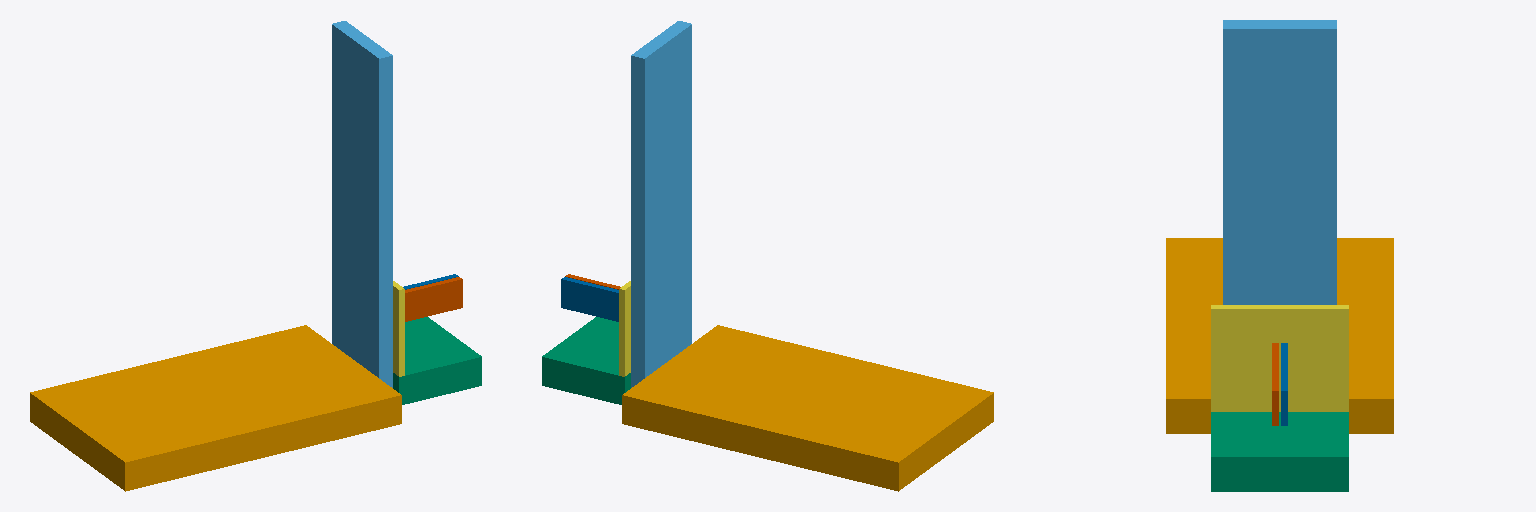
robot.urdf — lib_bot:
<?xml version="1.0" ?>
<robot name="lib_bot">

    <link name="base_link">
        <visual>
            <origin rpy="0 0 0" xyz="0 0 0" />
            <geometry>
                <box size="0.5 0.3 0.05" />
            </geometry>
        </visual>
        <collision>
            <origin xyz="0 0 0" rpy="0 0 0" />
            <geometry>
                <box size="0.5 0.3 0.05" />
            </geometry>
        </collision>
        
<inertial>
            <origin xyz="0 0 0" rpy="0 0 0" />
            <mass value="18" />
            <inertia ixx="0.13874999999999998" ixy="0.0" ixz="0.0" iyy="0.37875000000000003" iyz="0.0" izz="0.51" />
        </inertial>

    </link>
    <link name="tower_link">
        <visual>
            <origin rpy="0 0 0" xyz="0 0 0.275" />
            <geometry>
                <box size="0.025 0.15 0.60" />
            </geometry>
        </visual>
        <collision>
            <origin xyz="0 0 0.275" rpy="0 0 0" />
            <geometry>
                <box size="0.025 0.15 0.60" />
            </geometry>
        </collision>
        
<inertial>
            <origin xyz="0 0 0.275" rpy="0 0 0" />
            <mass value="10" />
            <inertia ixx="0.31875000000000003" ixy="0.0" ixz="0.0" iyy="0.300520833333" iyz="0.0" izz="0.0192708333333" />
        </inertial>

    </link>
    <link name="elevtor_link">
        <visual>
            <origin rpy="0 0 0" xyz="0 0 0" />
            <geometry>
                <box size="0.15 0.18 0.05" />
            </geometry>
        </visual>
        <collision>
            <origin xyz="0 0 0" rpy="0 0 0" />
            <geometry>
                <box size="0.15 0.18 0.05" />
            </geometry>
        </collision>
        
<inertial>
            <origin xyz="0 0 0" rpy="0 0 0" />
            <mass value="0.5" />
            <inertia ixx="0.0014541666666666665" ixy="0.0" ixz="0.0" iyy="0.0010416666666666667" iyz="0.0" izz="0.0022874999999999996" />
        </inertial>

    </link>
    <link name="push_link">
        <visual>
            <origin rpy="0 0 0" xyz="0 0 0" />
            <geometry>
                <box size="0.01 0.18 0.15" />
            </geometry>
        </visual>
        <collision>
            <origin xyz="0 0 0" rpy="0 0 0" />
            <geometry>
                <box size="0.01 0.18 0.15" />
            </geometry>
        </collision>
        
<inertial>
            <origin xyz="0 0 0" rpy="0 0 0" />
            <mass value="0.05" />
            <inertia ixx="0.0013724999999999998" ixy="0.0" ixz="0.0" iyy="0.0006025" iyz="0.0" izz="0.0008499999999999998" />
        </inertial>

    </link>
    <link name="jaw_1_link">
        <visual>
            <origin rpy="0 0 0" xyz="0 0 0" />
            <geometry>
                <box size="0.15 0.01 0.05" />
            </geometry>
        </visual>
        <collision>
            <origin xyz="0 0 0" rpy="0 0 0" />
            <geometry>
                <box size="0.15 0.01 0.05" />
            </geometry>
        </collision>
        
<inertial>
            <origin xyz="0 0 0" rpy="0 0 0" />
            <mass value="0.05" />
            <inertia ixx="0.0013724999999999998" ixy="0.0" ixz="0.0" iyy="0.0006025" iyz="0.0" izz="0.0008499999999999998" />
        </inertial>

    </link>
    <link name="jaw_2_link">
        <visual>
            <origin rpy="0 0 0" xyz="0 0 0" />
            <geometry>
                <box size="0.15 0.01 0.05" />
            </geometry>
        </visual>
        <collision>
            <origin xyz="0 0 0" rpy="0 0 0" />
            <geometry>
                <box size="0.15 0.01 0.05" />
            </geometry>
        </collision>
        
<inertial>
            <origin xyz="0 0 0" rpy="0 0 0" />
            <mass value="0.05" />
            <inertia ixx="0.0013724999999999998" ixy="0.0" ixz="0.0" iyy="0.0006025" iyz="0.0" izz="0.0008499999999999998" />
        </inertial>

    </link>
    
  
  
    <!-- JOINTS -->
    <joint name="base_link_tower_link_joint" type="fixed">
        <origin xyz="0.265 0 0" rpy="0 0 0" />
        <parent link="base_link" />
        <child link="tower_link" />
    </joint>
    <joint name="tower_link_elevtor_link_joint" type="prismatic">
        <axis xyz="0 0 1" />
        <parent link="tower_link" />
        <child link="elevtor_link" />
        <limit effort="1000.0" lower="0" upper="0.55" velocity="0.2" />
        <origin rpy="0 0 0" xyz="0.090 0 0" />
    </joint>
    <joint name="elevtor_link_push_link_joint" type="prismatic">
        <axis xyz="1 0 0" />
        <parent link="elevtor_link" />
        <child link="push_link" />
        <limit effort="1000.0" lower="0" upper="0.14" velocity="0.2" />
        <origin rpy="0 0 0" xyz="-0.070 0 0.1" />
    </joint>
    <joint name="push_link_jaw_1_joint" type="prismatic">
        <axis xyz="0 1 0" />
        <parent link="push_link" />
        <child link="jaw_1_link" />
        <limit effort="1000.0" lower="0" upper="0.075" velocity="0.2" />
        <origin rpy="0 0 0" xyz="0.080 0.006 0" />
    </joint>
    <joint name="push_link_jaw_2_joint" type="prismatic">
        <axis xyz="0 1 0" />
        <parent link="push_link" />
        <child link="jaw_2_link" />
        <limit effort="1000.0" lower="-0.075" upper="0" velocity="0.2" />
        <origin rpy="0 0 0" xyz="0.080 -0.006 0" />
    </joint>
    
    
<transmission name="trans_tower_link_elevtor_link_joint">
        <type>transmission_interface/SimpleTransmission</type>
        <joint name="tower_link_elevtor_link_joint">
            <hardwareInterface>hardware_interface/EffortJointInterface</hardwareInterface>
        </joint>
        <actuator name="tower_link_elevtor_link_joint_motor">
            <hardwareInterface>hardware_interface/EffortJointInterface</hardwareInterface>
            <mechanicalReduction>1</mechanicalReduction>
        </actuator>
    </transmission>
    <transmission name="trans_elevtor_link_push_link_joint">
        <type>transmission_interface/SimpleTransmission</type>
        <joint name="elevtor_link_push_link_joint">
            <hardwareInterface>hardware_interface/EffortJointInterface</hardwareInterface>
        </joint>
        <actuator name="elevtor_link_push_link_joint_motor">
            <hardwareInterface>hardware_interface/EffortJointInterface</hardwareInterface>
            <mechanicalReduction>1</mechanicalReduction>
        </actuator>
    </transmission>
    <transmission name="trans_push_link_jaw_1_joint">
        <type>transmission_interface/SimpleTransmission</type>
        <joint name="push_link_jaw_1_joint">
            <hardwareInterface>hardware_interface/EffortJointInterface</hardwareInterface>
        </joint>
        <actuator name="push_link_jaw_1_joint_motor">
            <hardwareInterface>hardware_interface/EffortJointInterface</hardwareInterface>
            <mechanicalReduction>1</mechanicalReduction>
        </actuator>
    </transmission>
    <transmission name="trans_push_link_jaw_2_joint">
        <type>transmission_interface/SimpleTransmission</type>
        <joint name="push_link_jaw_2_joint">
            <hardwareInterface>hardware_interface/EffortJointInterface</hardwareInterface>
        </joint>
        <actuator name="push_link_jaw_2_joint_motor">
            <hardwareInterface>hardware_interface/EffortJointInterface</hardwareInterface>
            <mechanicalReduction>1</mechanicalReduction>
        </actuator>
    </transmission>
    
    
     <!-- camera -->

    
  
  <!-- camera -->
  
    <gazebo>
        <plugin name="gazebo_ros_control" filename="libgazebo_ros_control.so">
            <robotNamespace>/</robotNamespace>
        </plugin>
    </gazebo>
</robot>

--- Render facts (derived) ---
The picture shows the robot from 3 angles, left to right: view 1: azimuth 30°, elevation 25°; view 2: azimuth 150°, elevation 25°; view 3: azimuth 270°, elevation 25°; orthographic projection.
Model lib_bot with 6 links and 5 joints (4 prismatic, 1 fixed), rooted at base_link, posed all joints at 0.
Visible links, largest first — view 1: base_link, tower_link, elevtor_link, jaw_2_link, push_link; view 2: base_link, tower_link, elevtor_link, jaw_1_link, push_link; view 3: tower_link, base_link, push_link, elevtor_link, jaw_1_link, jaw_2_link.
Boxes of the visible links, x1,y1,x2,y2 form: base_link: (30, 325, 401, 491); tower_link: (332, 21, 392, 387); elevtor_link: (393, 317, 481, 404); jaw_2_link: (405, 277, 462, 321); push_link: (393, 281, 404, 376); base_link: (622, 325, 993, 491); tower_link: (631, 21, 691, 387); elevtor_link: (542, 317, 630, 404); jaw_1_link: (561, 277, 618, 321); push_link: (619, 281, 630, 376); tower_link: (1223, 20, 1336, 304); base_link: (1166, 238, 1393, 433); push_link: (1211, 305, 1348, 411); elevtor_link: (1211, 412, 1348, 491); jaw_1_link: (1281, 343, 1287, 425); jaw_2_link: (1272, 343, 1278, 425).
Size in the robot's own frame: 0.69 by 0.3 by 0.6 metres.
Geometry: primitives only (box / cylinder / sphere), no mesh files.